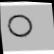no answer: (3, 11, 34, 44)
